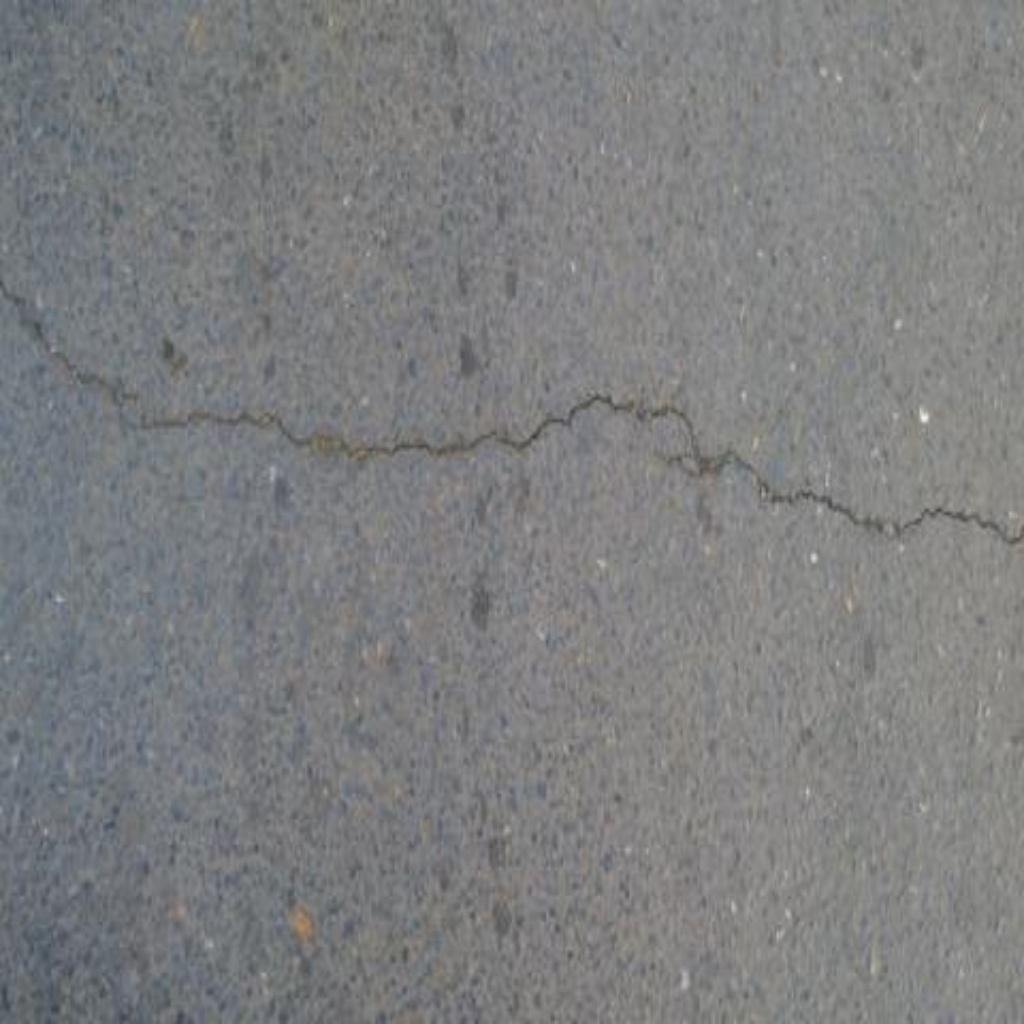Crack: (1, 283, 1024, 549)
